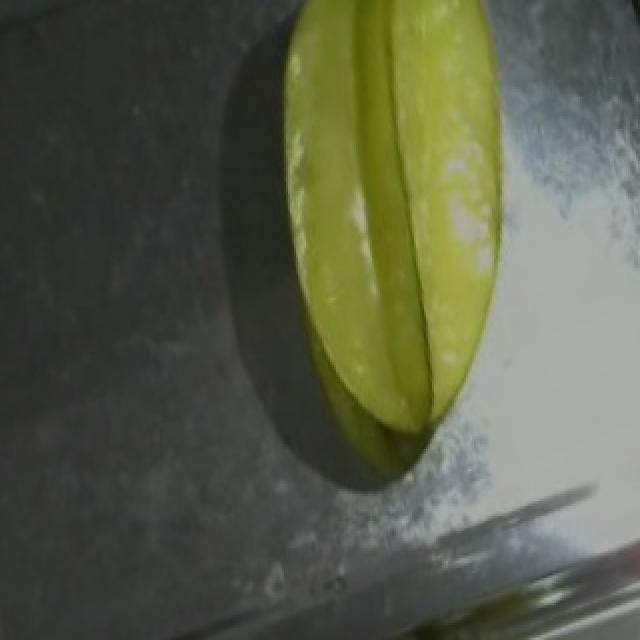fruit: (250, 0, 582, 340)
